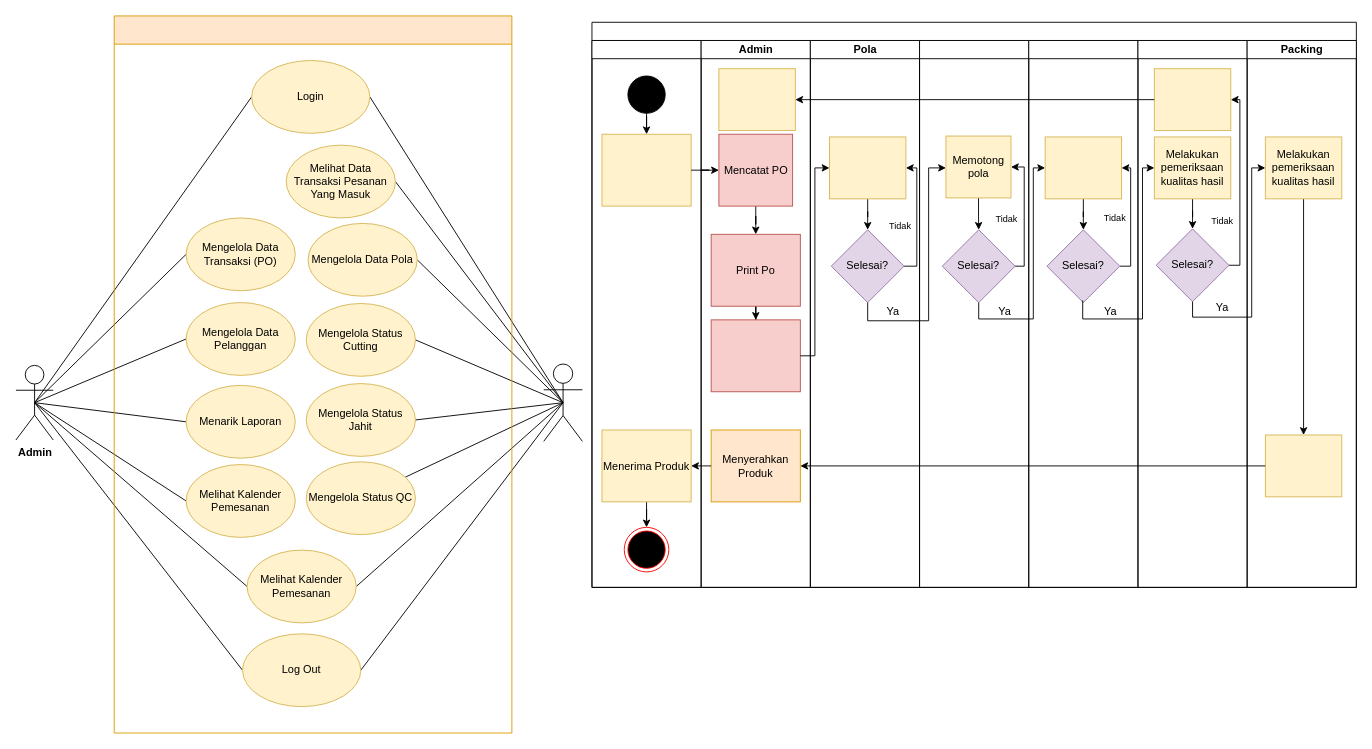
Some shapes in this 1372 by 749 pixel diagram are drawn without their labels. The shapes that lost their labels are listed below. From the top down, each one's box as (x1, y1, x2, y2) in pixels, then its label:
(718, 68, 795, 131): Menerima Laporan Reject
(1153, 68, 1231, 131): Melaporkan reject
(601, 133, 691, 206): Melakukan Pemesanan dan Memberikan Bahan Baku
(829, 136, 906, 199): Membuat Pola
(1044, 136, 1122, 199): Menjahit Pesanan
(591, 40, 701, 587): Pelanggan
(591, 21, 1356, 587): Pool
(919, 40, 1029, 587): Cuting
(1028, 40, 1138, 587): Penjahit
(1137, 40, 1247, 587): QC
(113, 15, 512, 733): USE CASE USULAN
(710, 319, 800, 392): Menyerahkan Hasil PO
(543, 363, 582, 441): Kepala Produksi
(1264, 434, 1342, 497): Menyerahkan Produk ke admin
